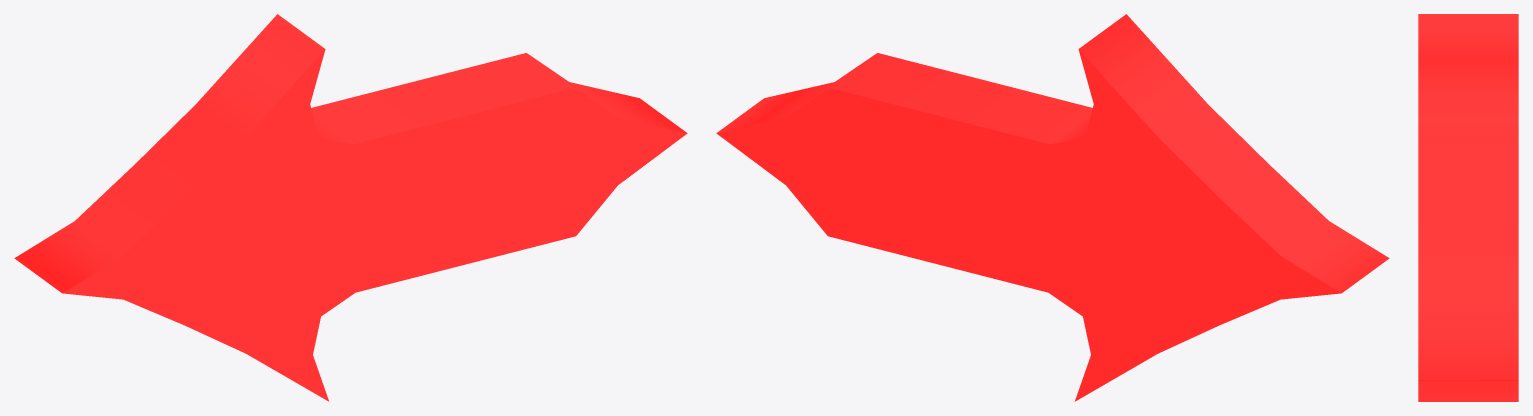
File: SignbookArrow01_Art.fbx
3 renders of one model, left to right at view 1: azimuth 30°, elevation 25°; view 2: azimuth 150°, elevation 25°; view 3: azimuth 270°, elevation 25°, orthographic. The views are drawn at different scales.
Visible parts, largest first — view 1: SignbookArrow01_Art; view 2: SignbookArrow01_Art; view 3: SignbookArrow01_Art.
Boxes of the visible parts, x1,y1,x2,y2 form: SignbookArrow01_Art: (14,14,687,401); SignbookArrow01_Art: (716,14,1389,401); SignbookArrow01_Art: (1418,14,1518,401).
Bounding box in the file's own units: 0.318 × 0.1719 × 0.0423.
